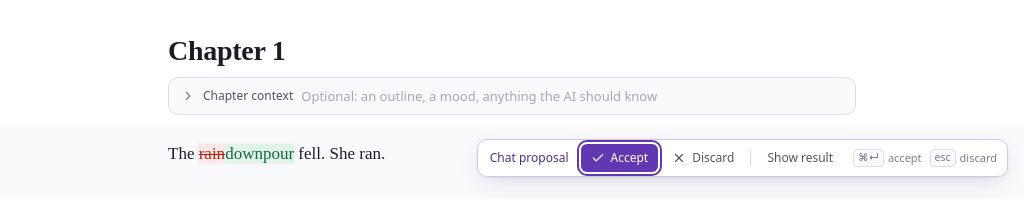
Test: ProposalLayer, whole-chapter proposals › accepts through the editor, so the change autosaves
Check: the text with class "cm-rewrite-ins" reads "downpour", box [225,144,294,163]
Click the button "Accept". click: (619, 158)
box: [580,144,658,172]
Wait 800 ms
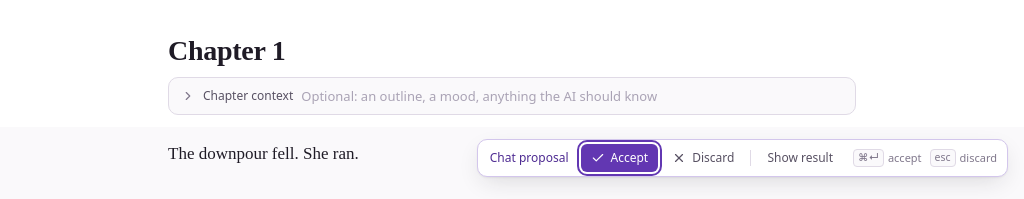
Check: the text "The downpour fell. She ran." is shown, box [168,144,359,163]
